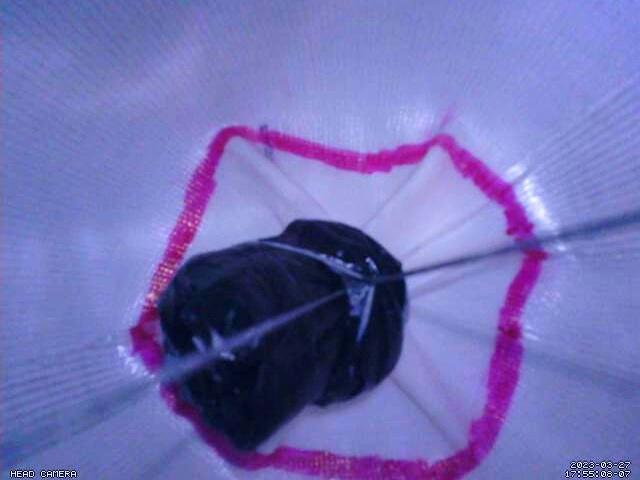red-circle: (131, 123, 547, 480)
